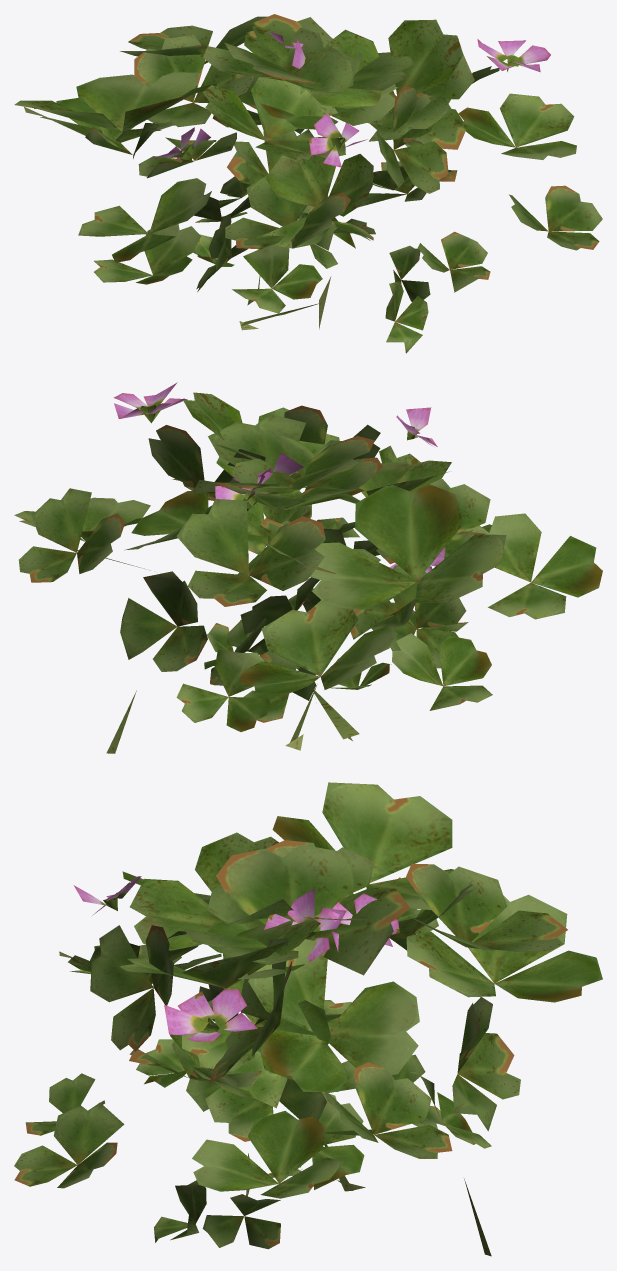
The model's file is shrub-leafy-04-lod1.glb.
The picture shows the model from 3 angles, top to bottom: view 1: azimuth 30°, elevation 25°; view 2: azimuth 150°, elevation 25°; view 3: azimuth 270°, elevation 25°; orthographic projection. The views are drawn at different scales.
Visible parts, largest first — view 1: shrub-leafy-04_MATERIAL_BATCH; view 2: shrub-leafy-04_MATERIAL_BATCH; view 3: shrub-leafy-04_MATERIAL_BATCH.
Part boxes in pixels (x1,y1,x2,y2): shrub-leafy-04_MATERIAL_BATCH: (14, 14, 602, 353); shrub-leafy-04_MATERIAL_BATCH: (14, 382, 602, 753); shrub-leafy-04_MATERIAL_BATCH: (14, 782, 602, 1256).
Bounding box in the file's own units: 1.12 × 0.5951 × 0.9374.
1 material, 1 textured.
